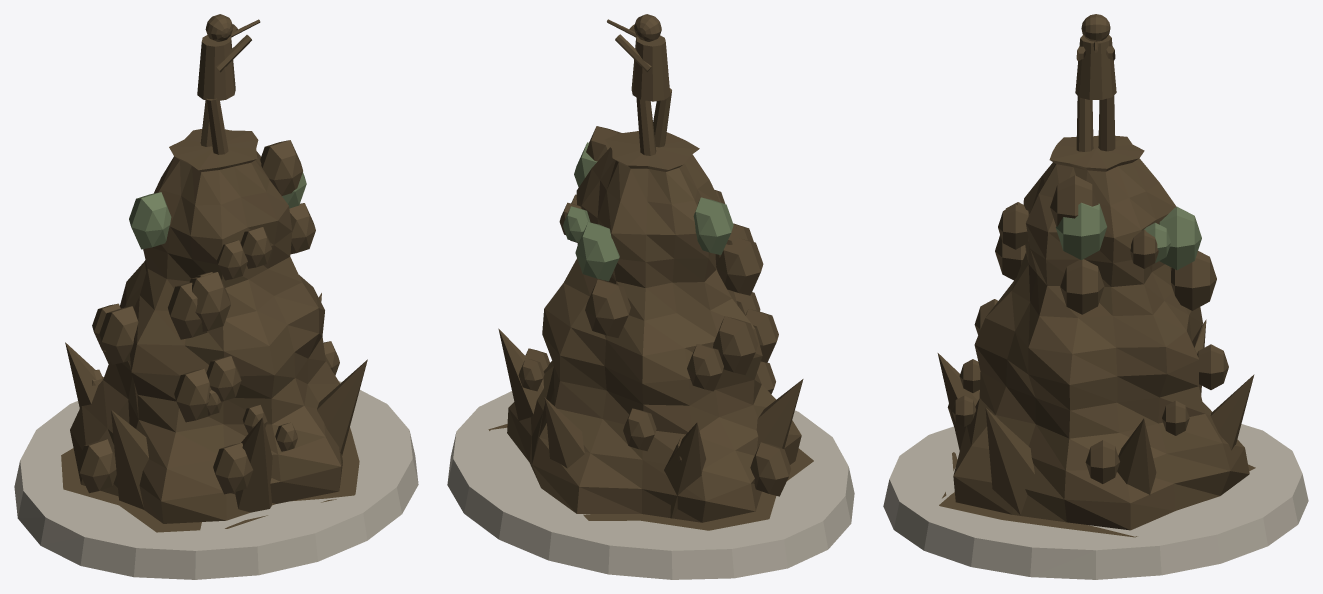
Rendered from peter_pan_statue.glb.
3 renders of one model, left to right at view 1: azimuth 30°, elevation 25°; view 2: azimuth 150°, elevation 25°; view 3: azimuth 270°, elevation 25°, orthographic. The views are drawn at different scales.
Size of the model in its own units: 3.5 by 4.62 by 3.5.
